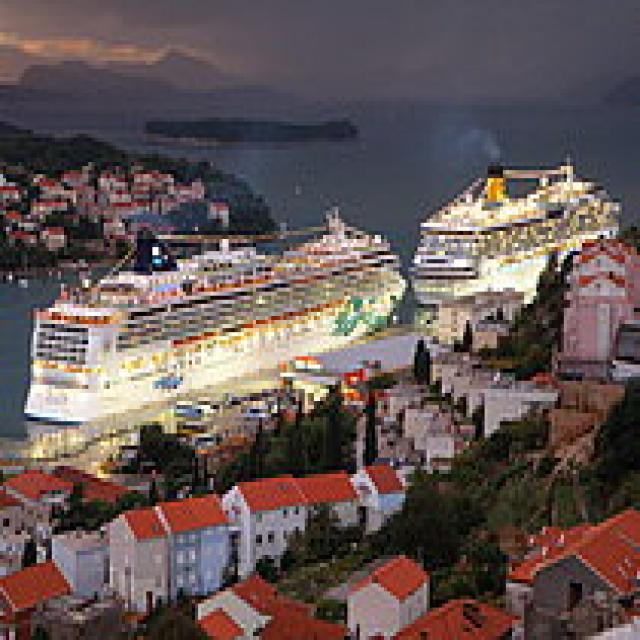Ship: (20, 208, 416, 435), (412, 151, 632, 289)
